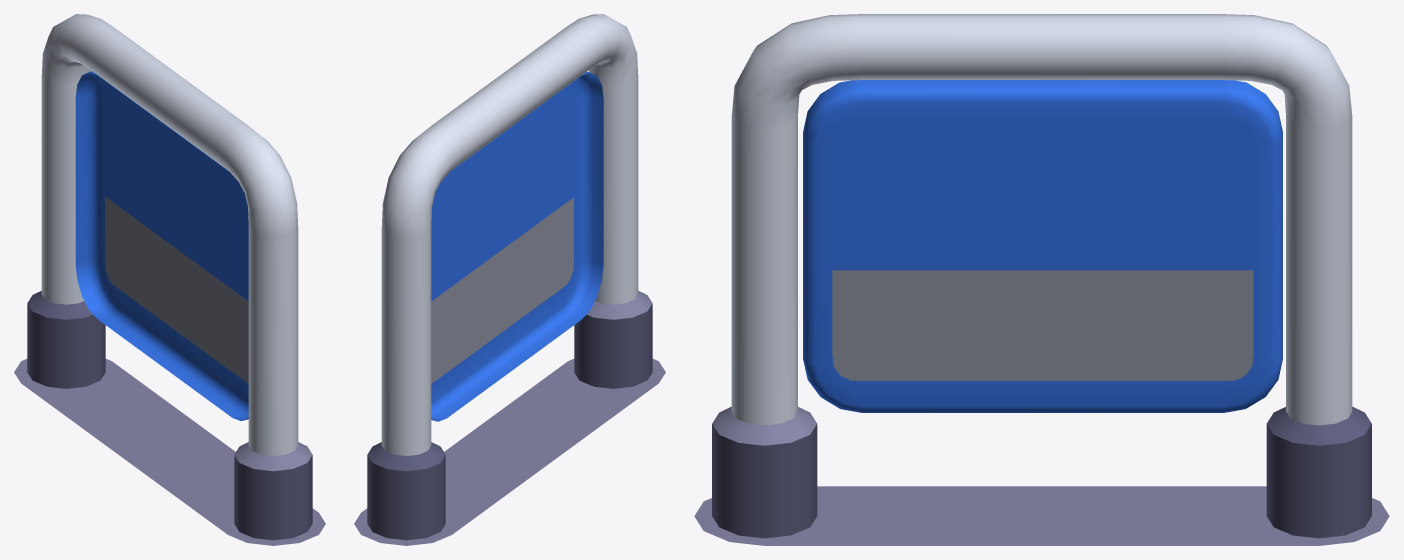
The model's file is sign_low.fbx.
3 renders of one model, left to right at view 1: azimuth 30°, elevation 25°; view 2: azimuth 150°, elevation 25°; view 3: azimuth 270°, elevation 25°, orthographic. The views are drawn at different scales.
Visible parts, largest first — view 1: polySurface81s, polySurface81s2; view 2: polySurface81s, polySurface81s2; view 3: polySurface81s2, polySurface81s.
Boxes of the visible parts, x1=… form: polySurface81s: x1=14, y1=14, x2=325, y2=545; polySurface81s2: x1=75, y1=71, x2=248, y2=420; polySurface81s: x1=354, y1=14, x2=665, y2=545; polySurface81s2: x1=431, y1=72, x2=603, y2=421; polySurface81s2: x1=803, y1=80, x2=1282, y2=412; polySurface81s: x1=694, y1=14, x2=1389, y2=545.
Bounding box in the file's own units: 4.25 × 16.62 × 20.98.
Materials: 1 (1 with a texture image).
